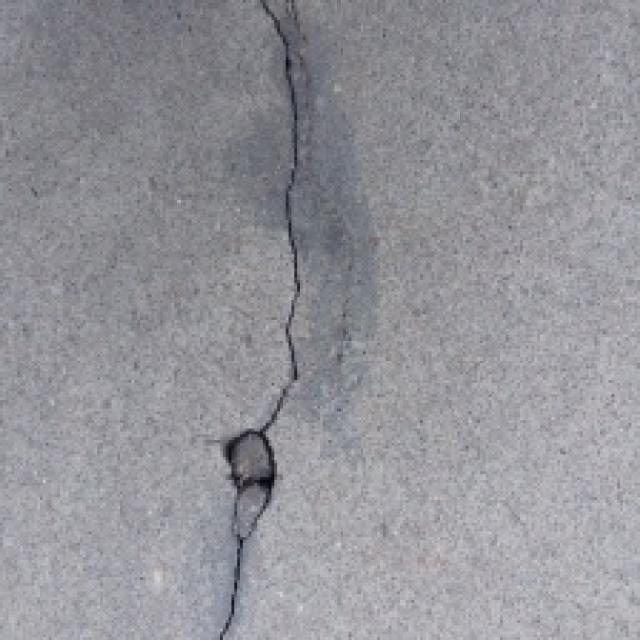crack: (178, 0, 322, 640)
